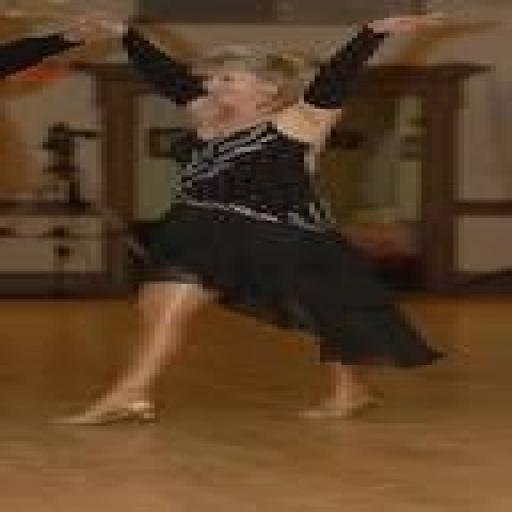dancing: (42, 8, 458, 428)
